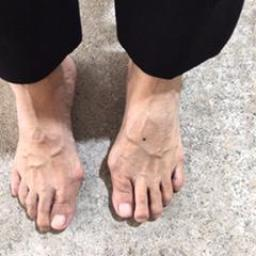Dorsal View -Both Feet-: (5, 42, 194, 241)
